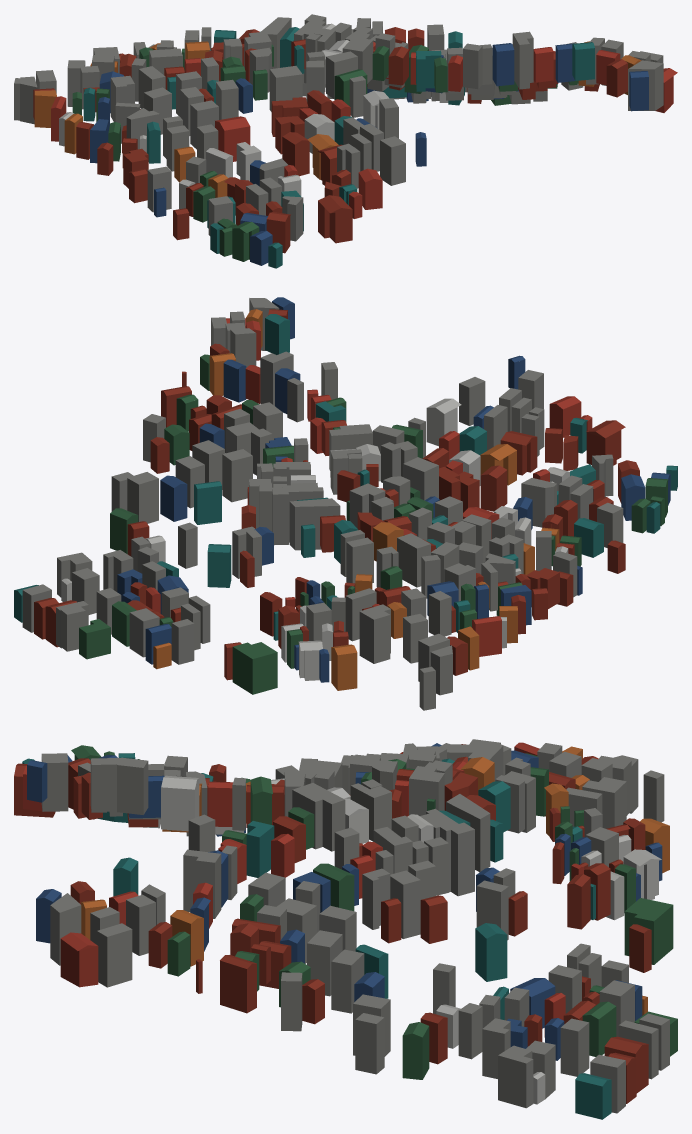
The model's file is near-17-109445-59474.46e9aed4.glb.
The picture shows the model from 3 angles, top to bottom: view 1: azimuth 30°, elevation 25°; view 2: azimuth 150°, elevation 25°; view 3: azimuth 270°, elevation 25°; orthographic projection. The views are drawn at different scales.
Bounding box in the file's own units: 306 × 112 × 308.
